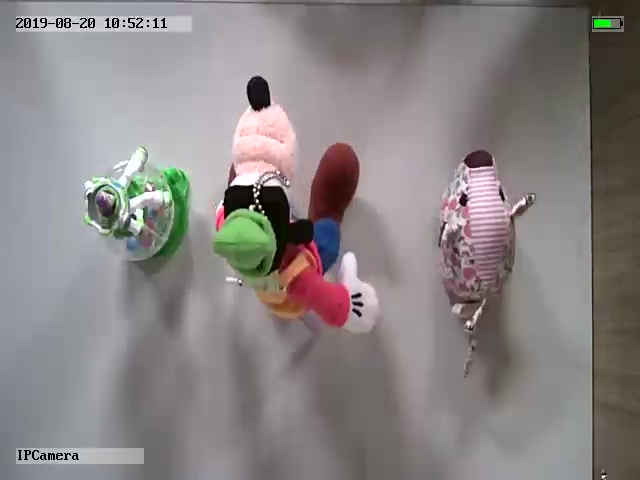buzz: (79, 144, 191, 267)
goofy: (210, 74, 380, 336)
pig: (436, 150, 536, 380)
